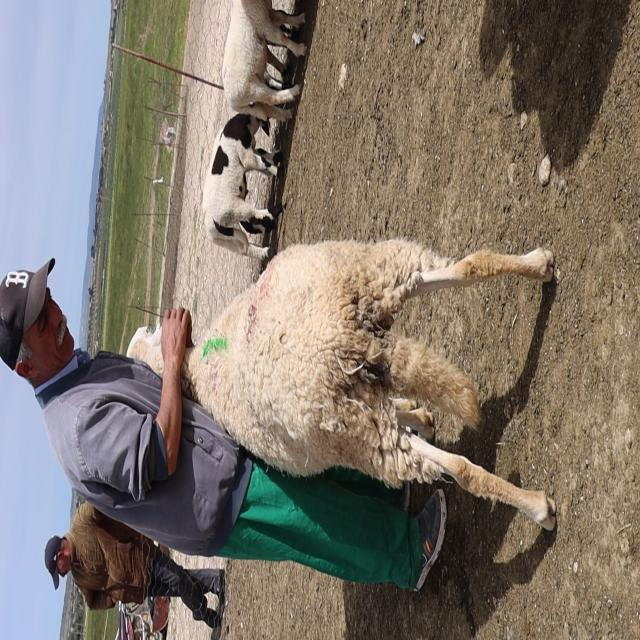Score_1: (181, 239, 556, 530)
